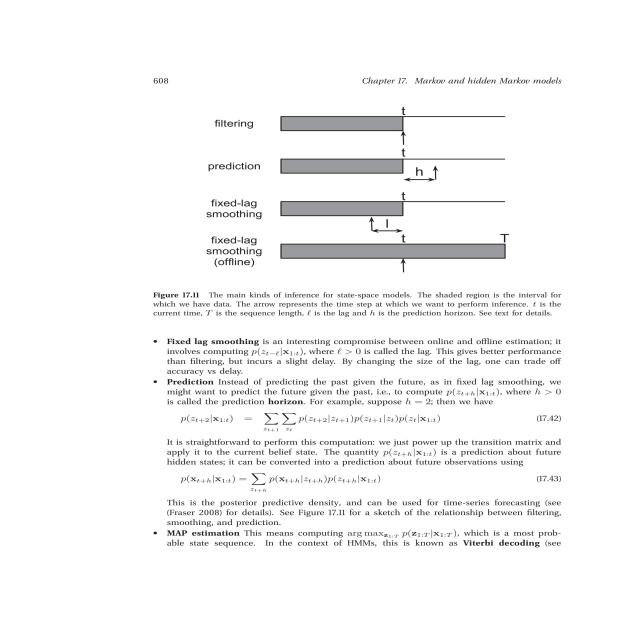diagram: (120, 93, 640, 320)
